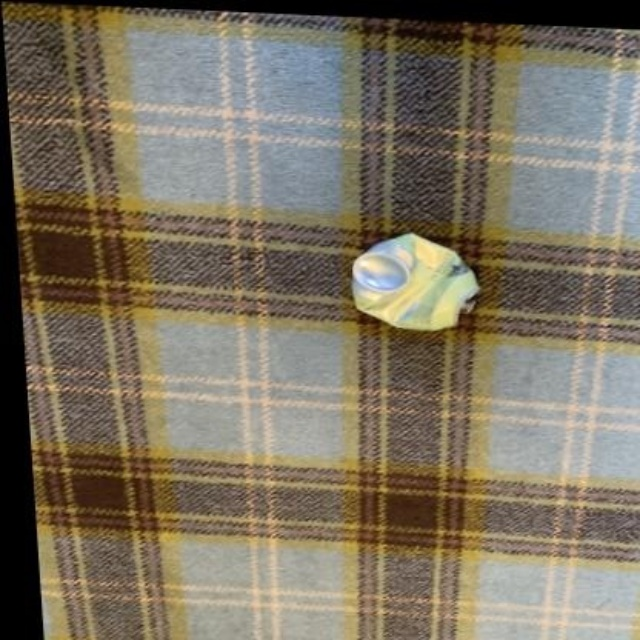trash: (352, 234, 478, 329)
